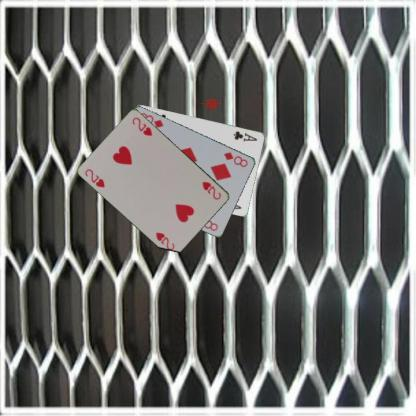2h: (83, 166, 106, 189), (200, 179, 222, 201)
8d: (221, 149, 249, 168)
Ac: (231, 128, 258, 143)
